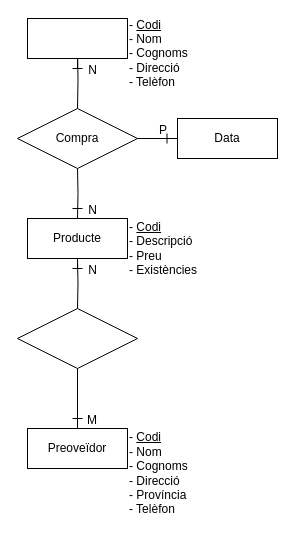
This 295x535 diagram has some shape labels left out. Each missing label, with the centre of its shape:
Client: the point at 77,38
Subministra: the point at 77,338
